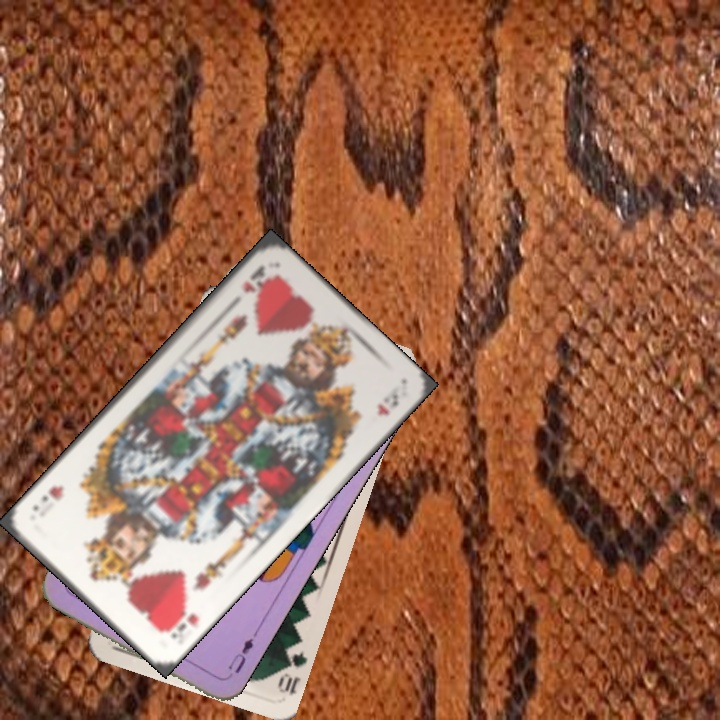EU: (224, 633, 257, 676)
G10: (273, 639, 309, 698)
HK: (158, 602, 202, 642), (238, 261, 273, 296)
